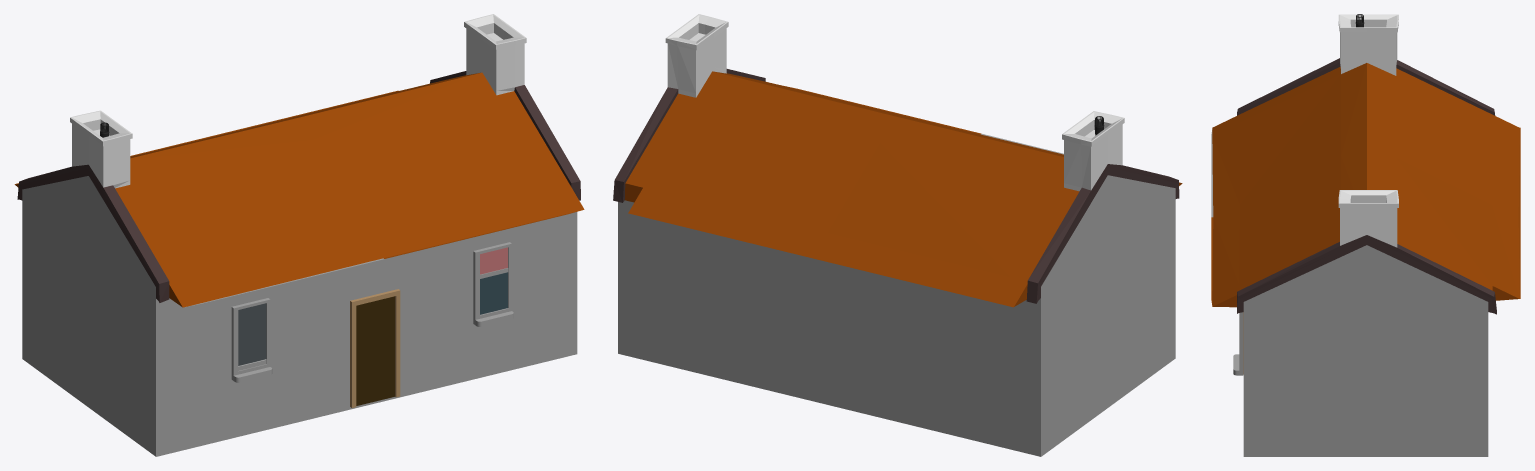
The model's file is building2.fbx.
3 views of the same model, side by side, from view 1: azimuth 30°, elevation 25°; view 2: azimuth 150°, elevation 25°; view 3: azimuth 270°, elevation 25° (orthographic). The views are drawn at different scales.
Visible parts, largest first — view 1: polySurface82, pCube26, polySurface88, polySurface83; view 2: polySurface82; view 3: polySurface82, polySurface83.
Boxes of the visible parts, x1,y1,x2,y2 form: polySurface82: (14, 14, 584, 456); pCube26: (350, 289, 400, 407); polySurface88: (231, 298, 272, 382); polySurface83: (473, 242, 513, 326); polySurface82: (613, 14, 1182, 456); polySurface82: (1211, 14, 1520, 456); polySurface83: (1233, 312, 1243, 375).
Bounding box in the file's own units: 731 × 467 × 506.
